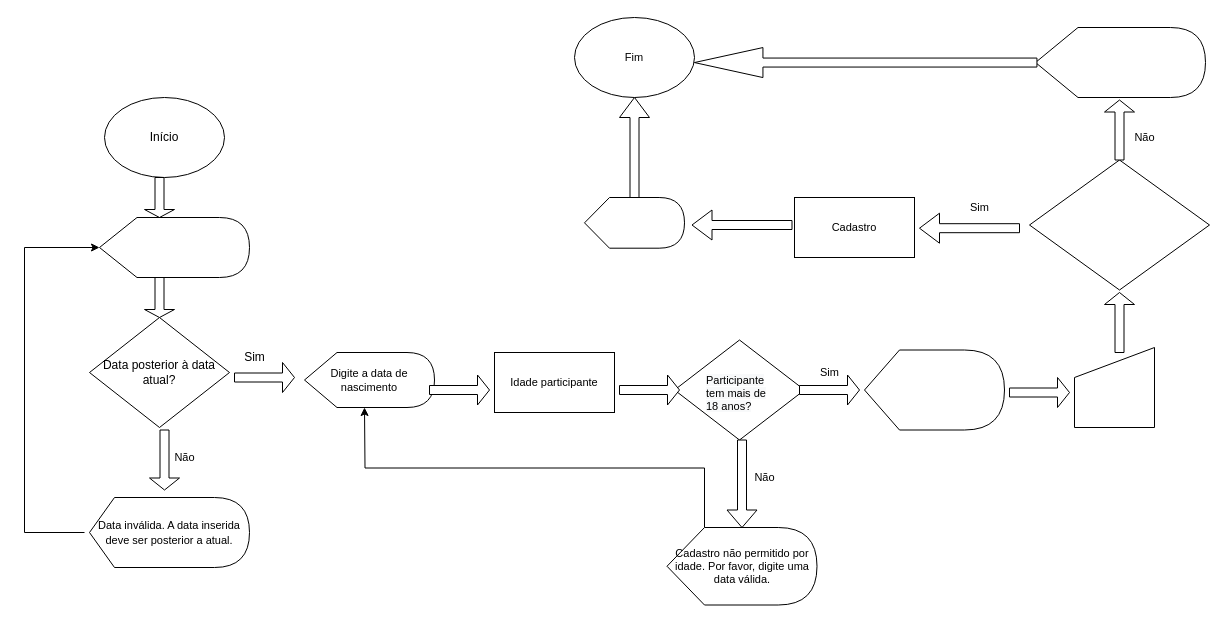
The diagram is 1227 pixels wide and 623 high, and some of its shapes have lost their labels. Each missing label, with the centre of its shape:
"A quantidade de pessoas cadastradas é inferior à 100?" goes at pixel 1119 224.
"Cadastro permitido! Selecione o Evento para cadastro." goes at pixel 934 389.
"Cadastro realizado" goes at pixel 634 222.
"Digite a Data do Evento" goes at pixel 174 247.
"Evento" goes at pixel 1114 387.
"O número de participantes cadastrados excedeu o limite." goes at pixel 1120 62.
